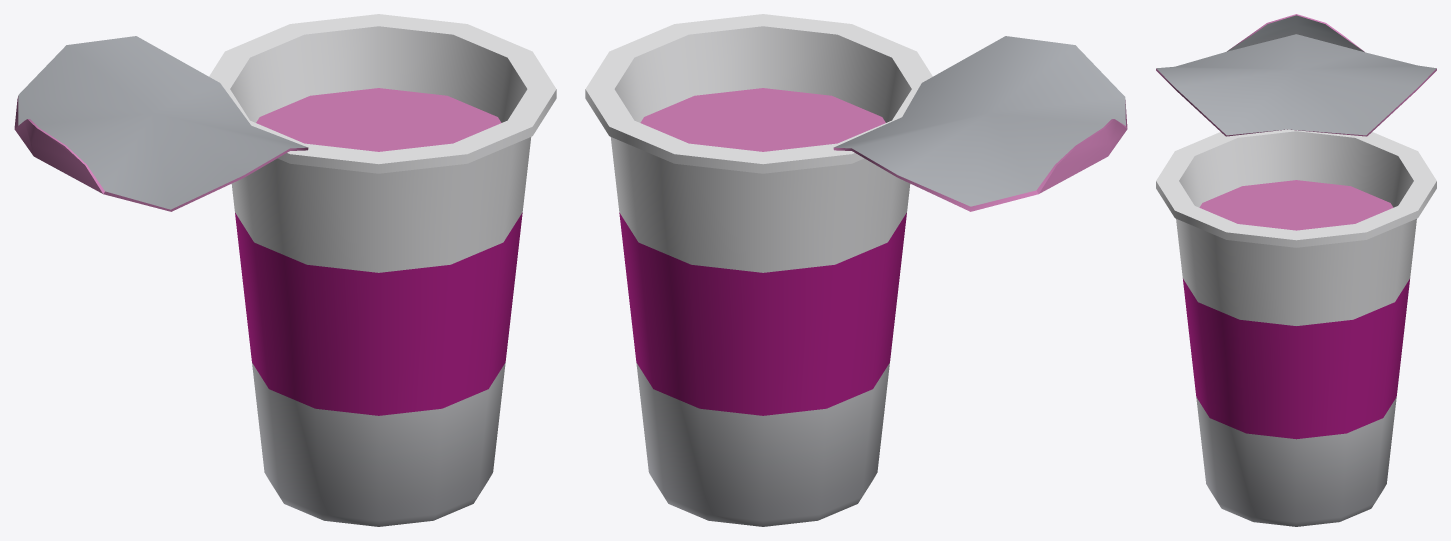
File: Yogurt_big_open_01.fbx
The picture shows the model from 3 angles, left to right: view 1: azimuth 30°, elevation 25°; view 2: azimuth 150°, elevation 25°; view 3: azimuth 270°, elevation 25°; orthographic projection. The views are drawn at different scales.
Parts seen in each view (by area): view 1: Yogurt_big_open_01; view 2: Yogurt_big_open_01; view 3: Yogurt_big_open_01.
Boxes of the visible parts, x1,y1,x2,y2 form: Yogurt_big_open_01: (14,14,556,526); Yogurt_big_open_01: (585,14,1127,526); Yogurt_big_open_01: (1156,14,1436,526).
Bounding box in the file's own units: 174 × 107 × 146.
